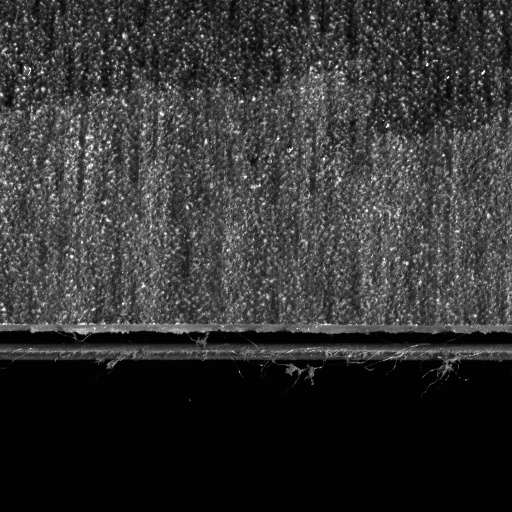kaijiao: (0, 315, 511, 367)
